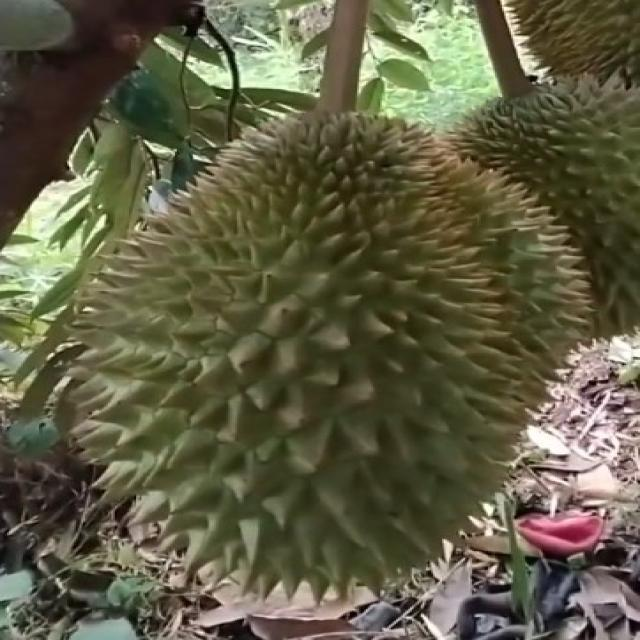immature: (67, 98, 596, 614)
